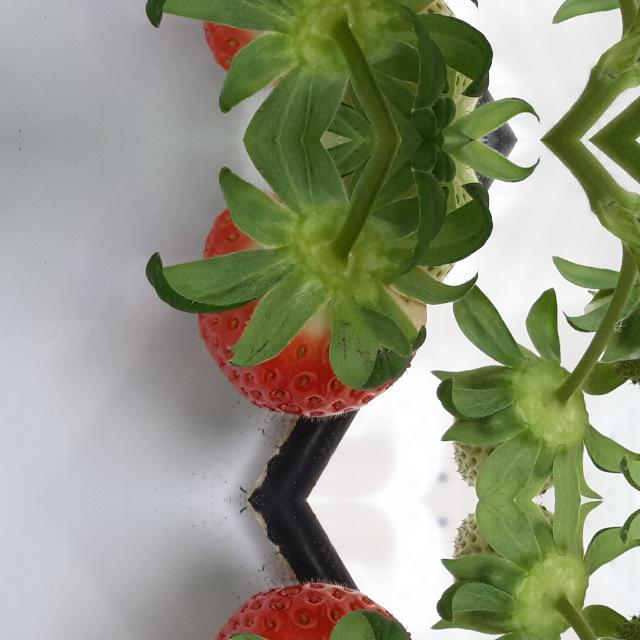Health_100: (195, 190, 427, 418), (195, 0, 427, 90), (195, 581, 427, 640)
